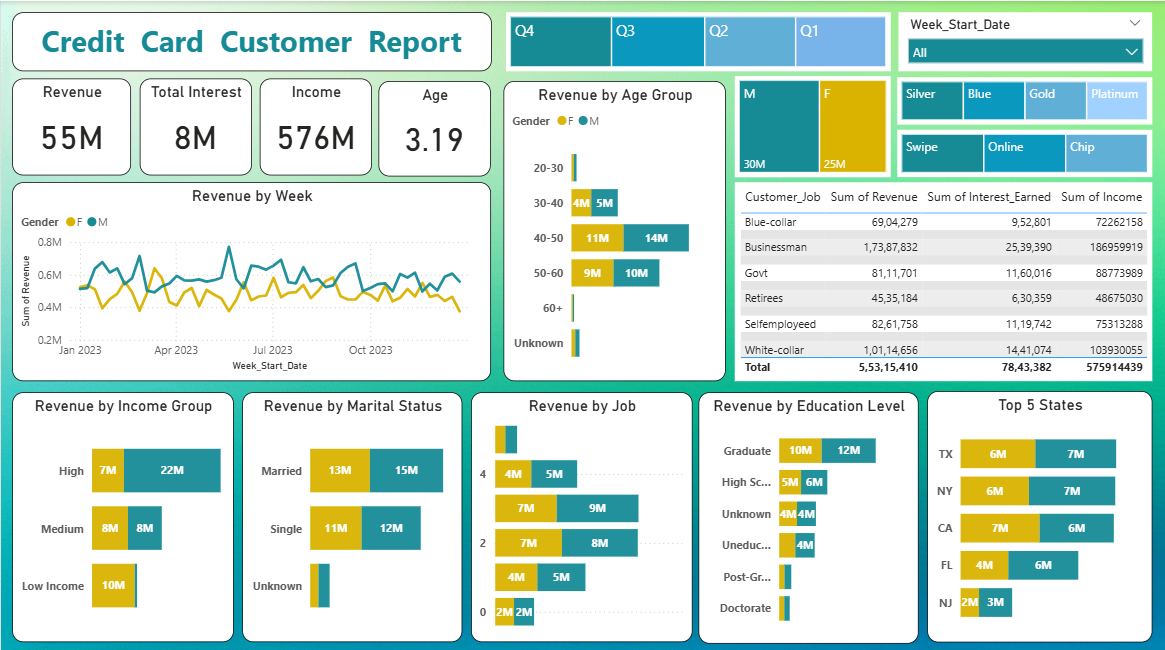

This screenshot's page, from the dashboard's own definition file:
{"tool":"powerbi","page":{"name":"Credit Card Customer","canvas":[1280,720],"ordinal":2},"visuals":[{"type":"textbox","box":[12.1,12.1,526,65.1],"z":0},{"type":"barChart","title":"Revenue by Income Group","fields":{"Y":["Sum(credit_card.Revenue)"],"Category":["Cust_Detail.Income Group"],"Series":["Cust_Detail.Gender"]},"box":[12.3,429.5,242.9,274.4],"z":1},{"type":"card","title":"Revenue","fields":{"Values":["Sum(credit_card.Revenue)"]},"box":[12.1,84.5,130.3,106.2],"z":2},{"type":"card","title":"Age","fields":{"Values":["Avg(Cust_Detail.Cust_Satisfaction_Score)"]},"box":[415,88.1,123.1,105],"z":3},{"type":"card","title":"Total Interest","fields":{"Values":["Sum(credit_card.Interest_Earned)"]},"box":[152,84.5,123.1,106.2],"z":4},{"type":"card","title":"Income","fields":{"Values":["Sum(Cust_Detail.Income)"]},"box":[283.5,84.5,123.1,106.2],"z":5},{"type":"treemap","fields":{"Group":["credit_card.Qtr"],"Values":["Avg(credit_card.Client_Num)"]},"box":[555,12.1,422.3,65.1],"z":6},{"type":"treemap","fields":{"Group":["credit_card.Card_Category"],"Values":["Avg(credit_card.Client_Num)"]},"box":[983.9,83.7,279.9,52.1],"z":9},{"type":"tableEx","fields":{"Values":["Cust_Detail.Customer_Job","Sum(credit_card.Revenue)","Sum(credit_card.Interest_Earned)","Sum(Cust_Detail.Income)"]},"box":[805.5,199,458.3,218.2],"z":10},{"type":"slicer","fields":{"Values":["credit_card.Week_Start_Date"]},"box":[985.7,12.1,278.7,65.1],"z":11},{"type":"lineChart","title":"Revenue by Week","fields":{"Y":["Sum(credit_card.Revenue)"],"Series":["Cust_Detail.Gender"],"Category":["credit_card.Week_Start_Date"]},"box":[12.3,199,525.6,218.2],"z":12},{"type":"treemap","fields":{"Group":["Cust_Detail.Gender"],"Values":["Sum(credit_card.Revenue)"]},"box":[805.5,82.3,171.5,111.1],"z":13},{"type":"barChart","title":"Revenue by Age Group","fields":{"Y":["Sum(credit_card.Revenue)"],"Category":["Cust_Detail.Age Group"],"Series":["Cust_Detail.Gender"]},"box":[551.6,87.8,244.3,329.3],"z":14},{"type":"barChart","title":"Revenue by Job","fields":{"Y":["Sum(credit_card.Revenue)"],"Category":["Cust_Detail.Dependent_Count"],"Series":["Cust_Detail.Gender"]},"box":[516,429.5,242.9,274.4],"z":16},{"type":"barChart","title":"Revenue by Education Level","fields":{"Y":["Sum(credit_card.Revenue)"],"Category":["Cust_Detail.Education_Level"],"Series":["Cust_Detail.Gender"]},"box":[765.7,429.5,241.5,275.8],"z":17},{"type":"barChart","title":"Top 5 States","fields":{"Y":["Sum(credit_card.Revenue)"],"Category":["Cust_Detail.State_cd"],"Series":["Cust_Detail.Gender"]},"box":[1016.8,428.1,247,275.8],"z":18},{"type":"barChart","title":"Revenue by Marital Status","fields":{"Y":["Sum(credit_card.Revenue)"],"Category":["Cust_Detail.Marital_Status"],"Series":["Cust_Detail.Gender"]},"box":[264.8,429.5,241.5,274.4],"z":19},{"type":"treemap","fields":{"Group":["credit_card.Use Chip"],"Values":["Avg(credit_card.Client_Num)"]},"box":[983.9,141.3,279.9,52.1],"z":20}]}

Visuals, with their boxes in screenshot pixels (x1, y1, x2, y2), scaled from the page's 1280x720 canvas onto the 1165x650 screenshot:
textbox: bbox=(11, 11, 490, 70)
"Revenue by Income Group" barChart: bbox=(11, 388, 232, 635)
"Revenue" card: bbox=(11, 76, 130, 172)
"Age" card: bbox=(378, 80, 490, 174)
"Total Interest" card: bbox=(138, 76, 250, 172)
"Income" card: bbox=(258, 76, 370, 172)
treemap - credit_card.Qtr x Avg(credit_card.Client_Num): bbox=(505, 11, 889, 70)
treemap - credit_card.Card_Category x Avg(credit_card.Client_Num): bbox=(896, 76, 1150, 123)
tableEx - Cust_Detail.Customer_Job x Sum(credit_card.Revenue): bbox=(733, 180, 1150, 377)
slicer - credit_card.Week_Start_Date: bbox=(897, 11, 1151, 70)
"Revenue by Week" lineChart: bbox=(11, 180, 490, 377)
treemap - Cust_Detail.Gender x Sum(credit_card.Revenue): bbox=(733, 74, 889, 175)
"Revenue by Age Group" barChart: bbox=(502, 79, 724, 377)
"Revenue by Job" barChart: bbox=(470, 388, 691, 635)
"Revenue by Education Level" barChart: bbox=(697, 388, 917, 637)
"Top 5 States" barChart: bbox=(925, 386, 1150, 635)
"Revenue by Marital Status" barChart: bbox=(241, 388, 461, 635)
treemap - credit_card.Use Chip x Avg(credit_card.Client_Num): bbox=(896, 128, 1150, 175)
